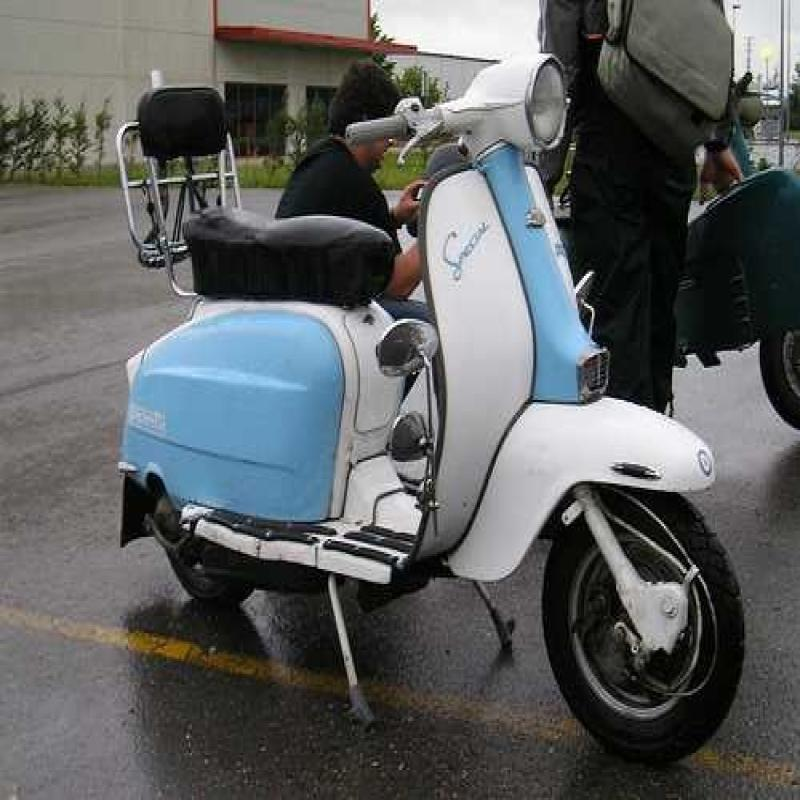bike: (103, 22, 734, 742)
